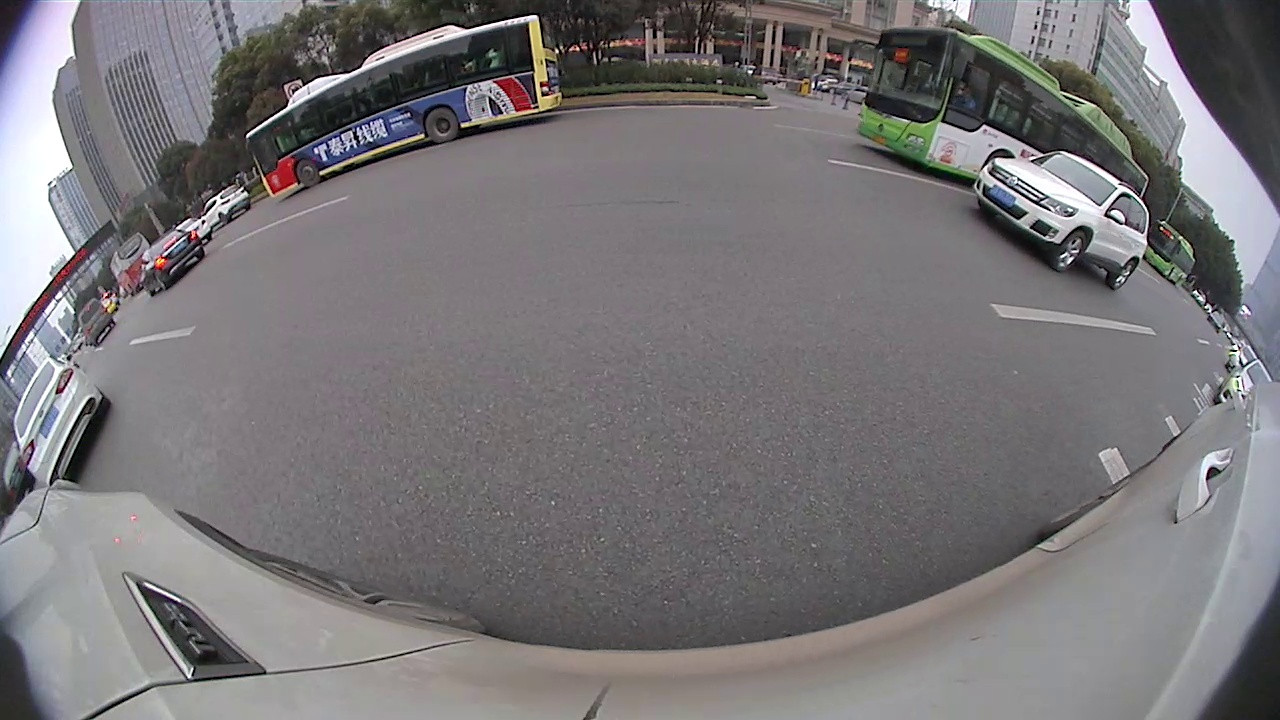bus: (244, 13, 563, 200), (856, 24, 1151, 205), (1141, 218, 1196, 289), (108, 230, 153, 298)
car: (972, 148, 1151, 291), (12, 355, 112, 488), (140, 227, 206, 298), (1212, 357, 1267, 415), (202, 182, 253, 228), (77, 296, 117, 348), (173, 215, 214, 246), (1225, 343, 1260, 378)
front: (1045, 230, 1090, 272), (291, 152, 324, 188)
rear: (424, 104, 462, 142), (1104, 256, 1136, 292), (90, 394, 114, 421)
